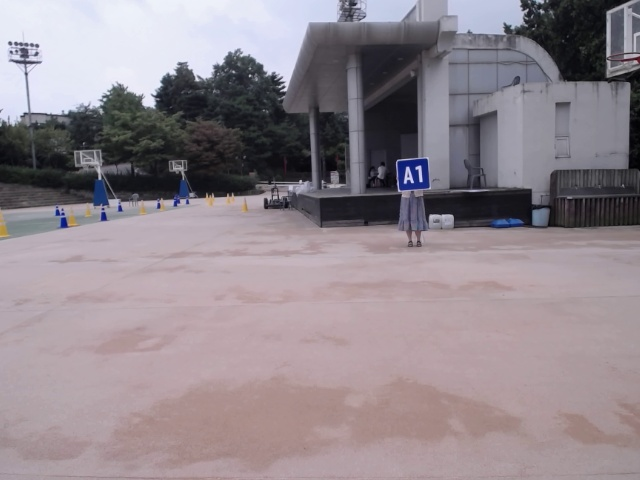delivery_a1: (397, 157, 431, 191)
